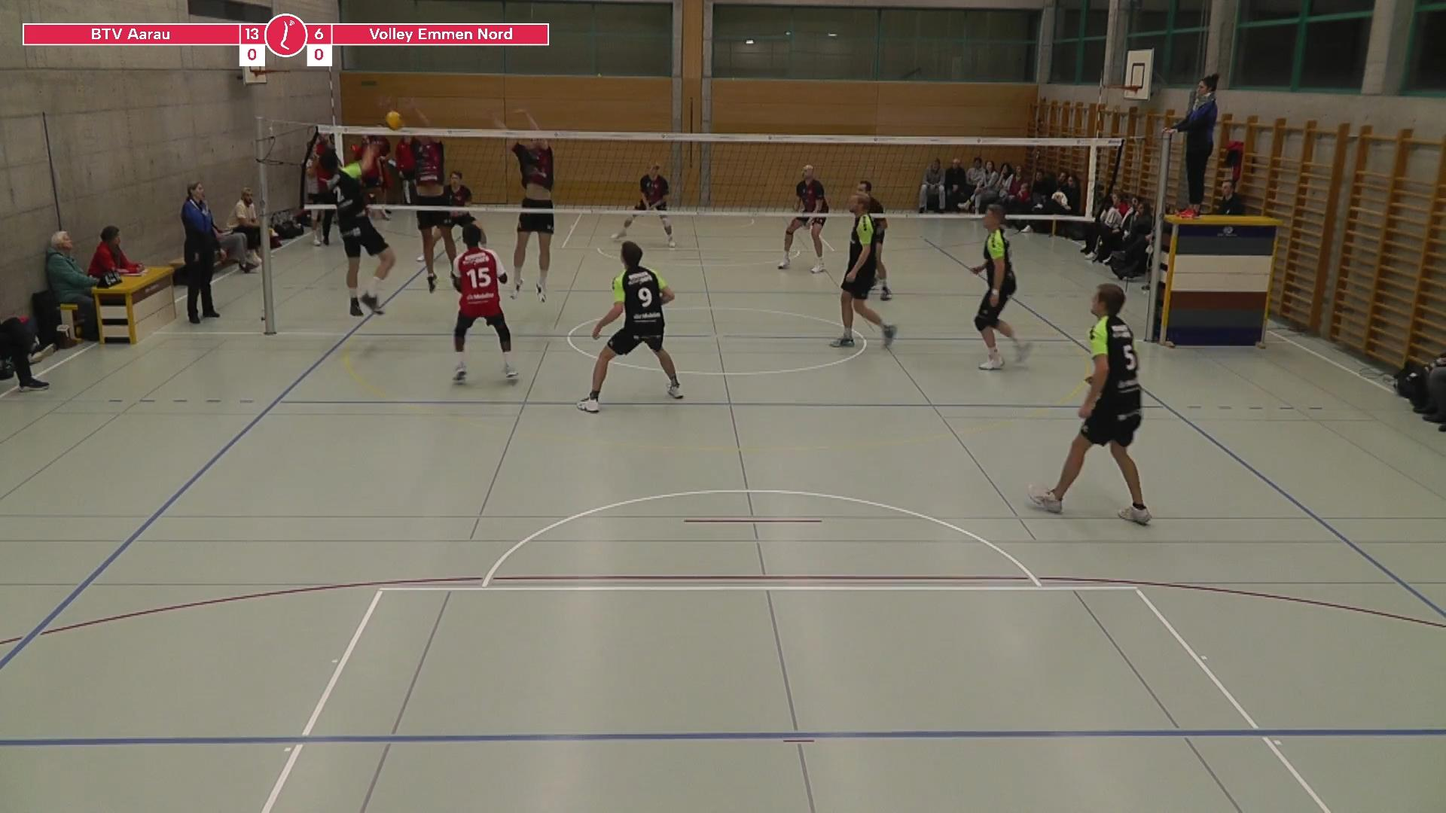Attack: (311, 132, 403, 321)
Block: (395, 111, 475, 296), (491, 102, 562, 308)
Player: (1029, 284, 1151, 525), (577, 242, 682, 413), (452, 224, 517, 382), (831, 192, 896, 347), (971, 205, 1030, 370), (778, 165, 828, 273), (857, 180, 892, 300), (635, 163, 675, 248), (444, 171, 475, 230)
